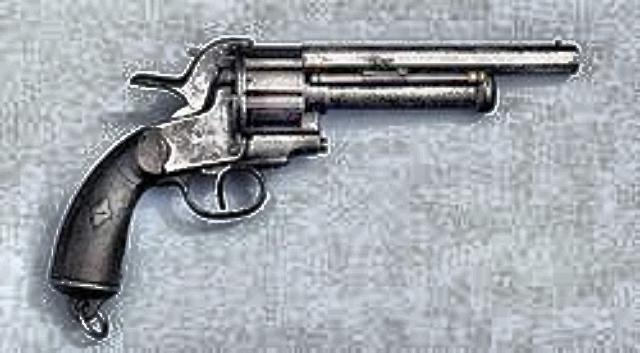pistol: (38, 33, 578, 296)
